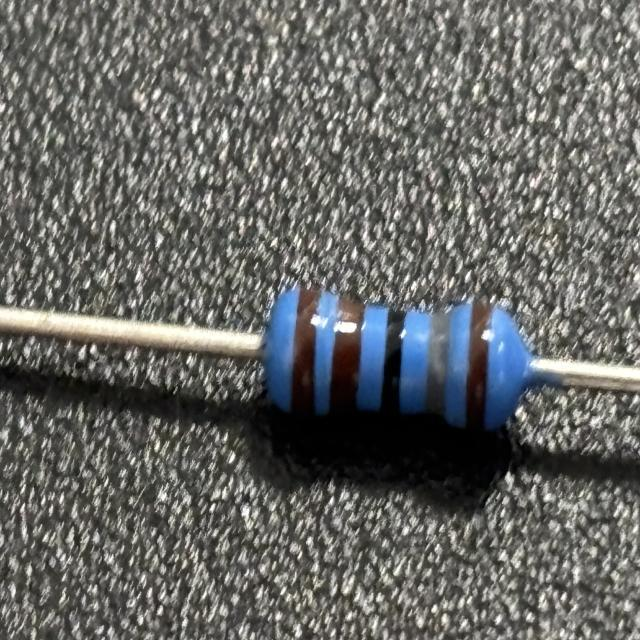resistor: (270, 282, 525, 440)
